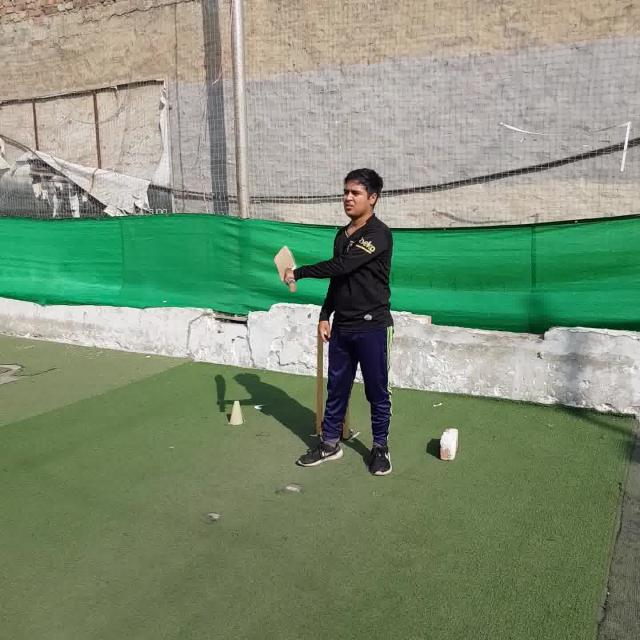bat: (274, 245, 296, 291)
